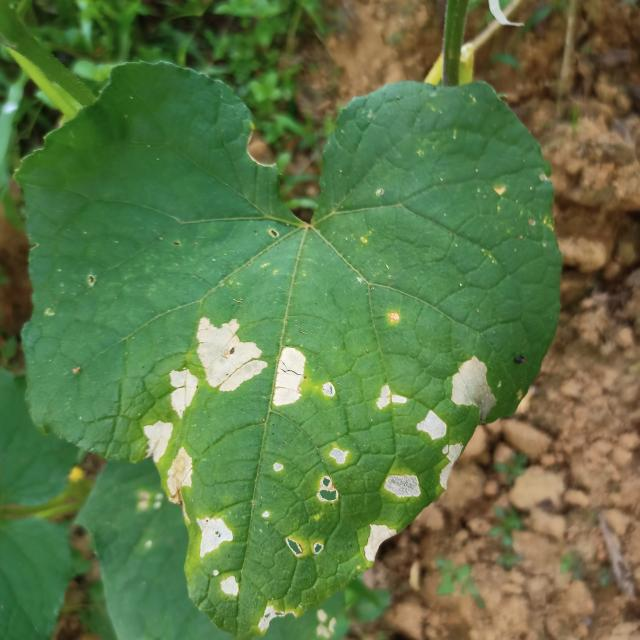disease_cucumber: (198, 317, 306, 409), (197, 517, 244, 597), (142, 422, 194, 494), (418, 410, 462, 487), (451, 356, 497, 420), (318, 445, 344, 511), (169, 368, 197, 418), (383, 470, 422, 503), (366, 522, 396, 561), (372, 384, 408, 410)
